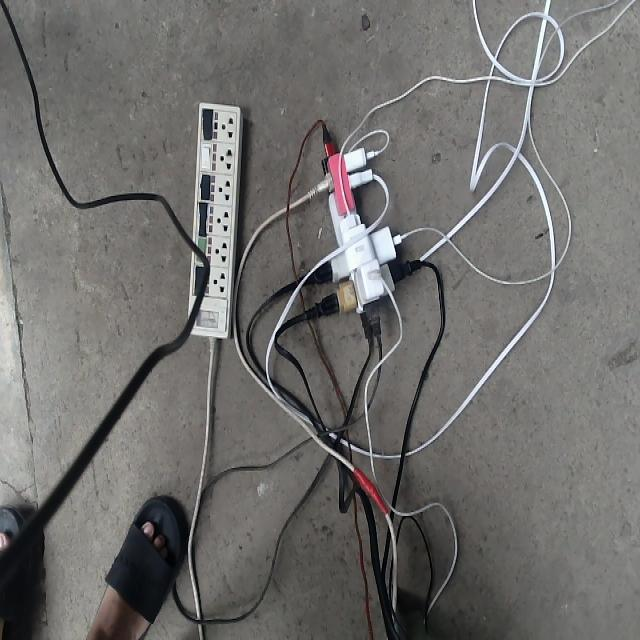-: (307, 140, 408, 332)
